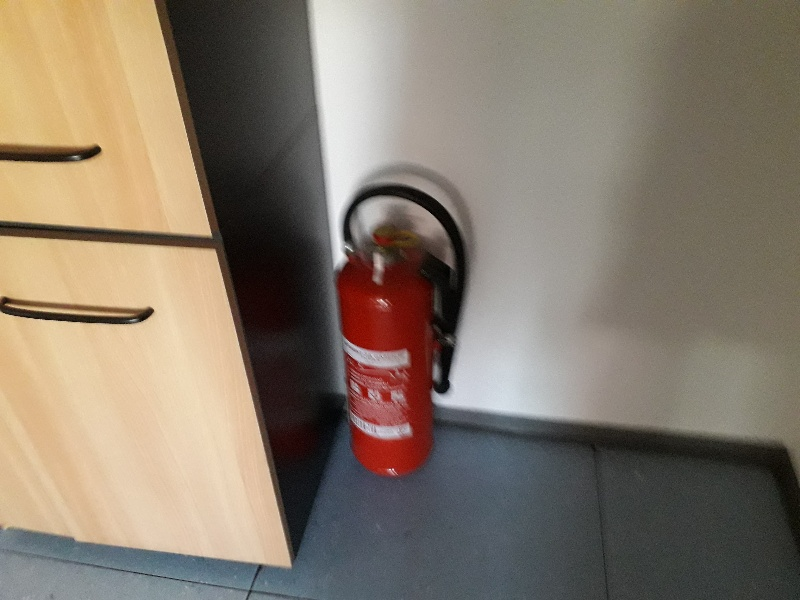vataparat: (336, 184, 466, 478)
